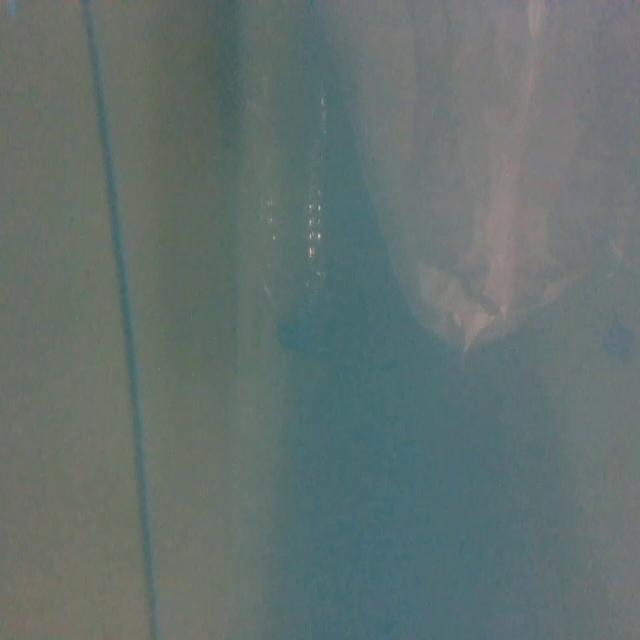plastic bags: (340, 0, 640, 348)
plastic bottle: (234, 55, 340, 422)
